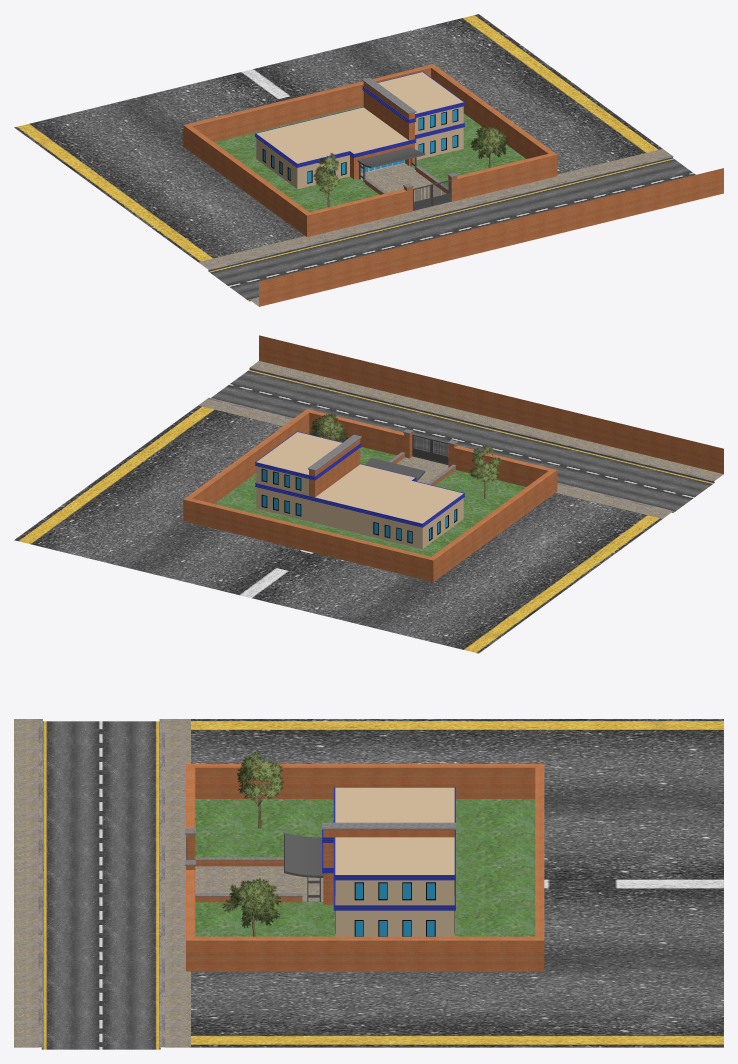
Rendered from ingresso.glb.
3 renders of one model, top to bottom at view 1: azimuth 30°, elevation 25°; view 2: azimuth 150°, elevation 25°; view 3: azimuth 270°, elevation 25°, orthographic. The views are drawn at different scales.
Visible parts, largest first — view 1: Pavimento, Edificio, Tree_2, Cancello; view 2: Pavimento, Edificio, Tree_2, Cancello; view 3: Pavimento, Edificio, Tree_2.
Boxes of the visible parts, bbox=[...] form: Pavimento: bbox=[14, 14, 695, 306]; Edificio: bbox=[183, 64, 723, 306]; Tree_2: bbox=[313, 125, 507, 193]; Cancello: bbox=[413, 179, 451, 210]; Pavimento: bbox=[14, 361, 723, 653]; Edificio: bbox=[183, 335, 723, 581]; Tree_2: bbox=[309, 413, 501, 482]; Cancello: bbox=[412, 434, 448, 464]; Pavimento: bbox=[14, 719, 723, 1049]; Edificio: bbox=[185, 764, 544, 971]; Tree_2: bbox=[222, 752, 283, 928].
Bounding box in the file's own units: 130 × 15.27 × 119.
Materials: 10 (10 with a texture image).
